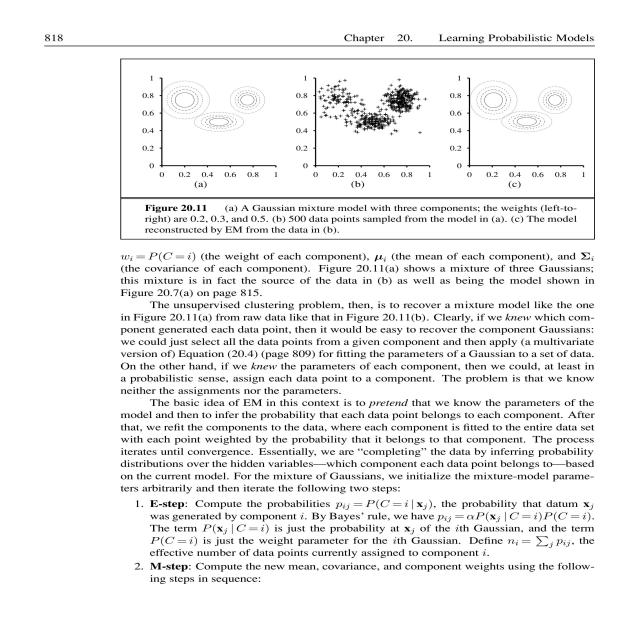diagram: (121, 59, 606, 246)
